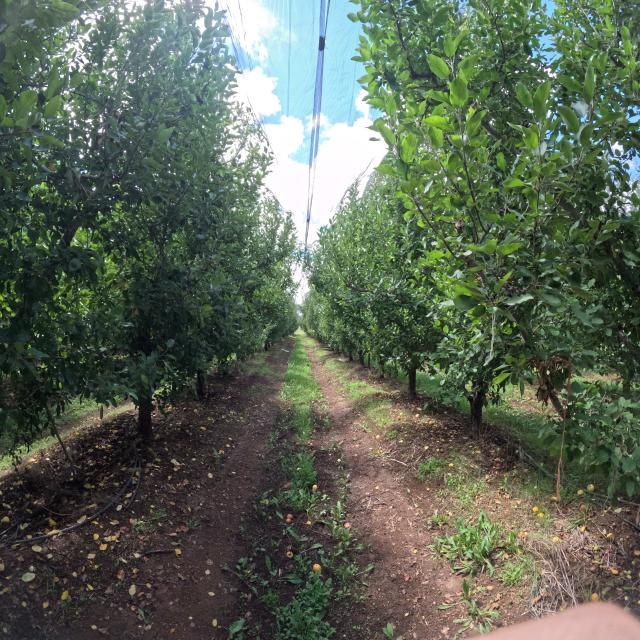-FireBlight-: (525, 356, 569, 409)
